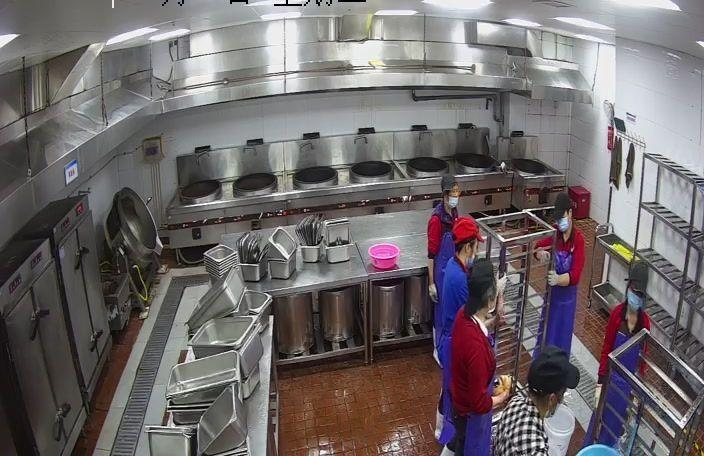apron: (426, 281, 446, 307), (592, 382, 610, 410), (495, 268, 508, 299), (544, 270, 564, 289), (534, 248, 553, 264)
hairnet: (446, 192, 462, 210)
mask: (534, 397, 566, 419), (625, 288, 650, 315), (550, 216, 576, 236)
no_apron: (498, 382, 516, 403)
no_gloves: (440, 178, 460, 193)
